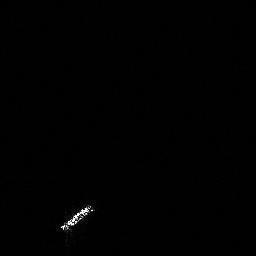ship: (57, 206, 94, 234)
